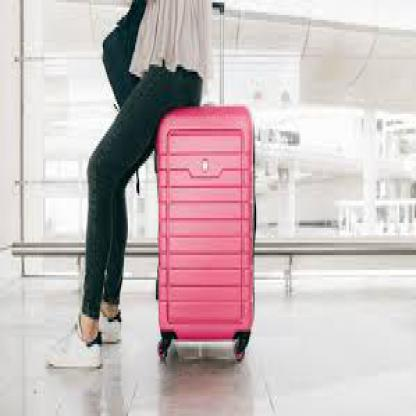maleta: (154, 99, 263, 374)
